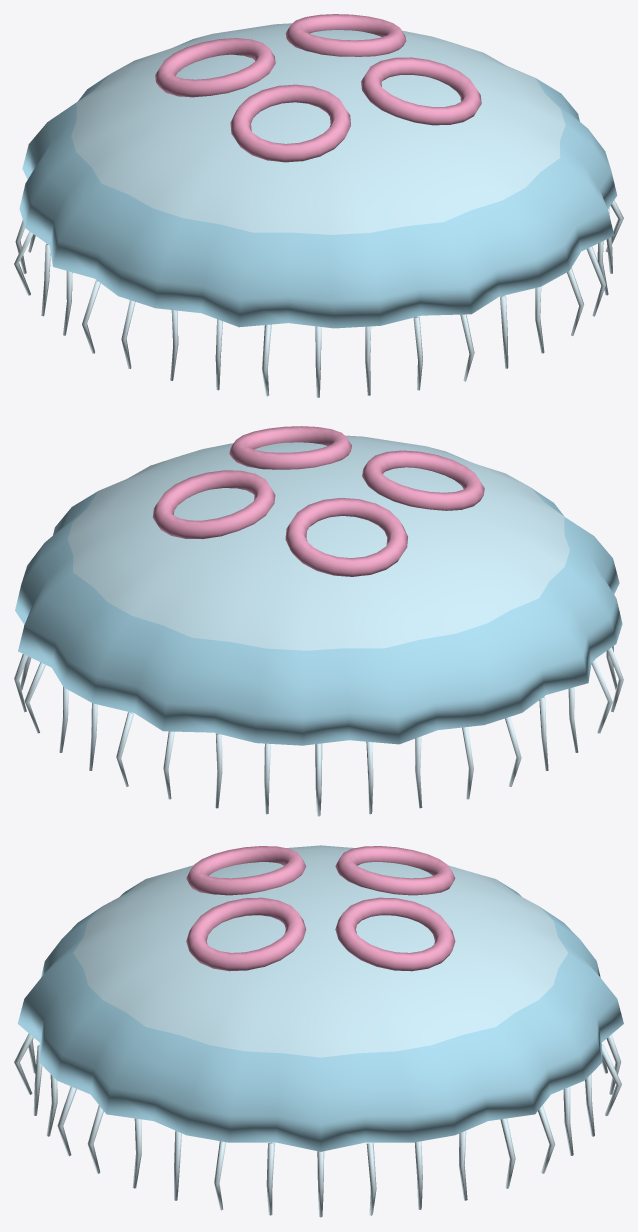
Rendered from sea-moon-jellyfish.glb.
The picture shows the model from 3 angles, top to bottom: view 1: azimuth 30°, elevation 25°; view 2: azimuth 150°, elevation 25°; view 3: azimuth 270°, elevation 25°; orthographic projection. The views are drawn at different scales.
Visible parts, largest first — view 1: jelly; view 2: jelly; view 3: jelly.
Boxes of the visible parts, <box> form: jelly: <box>14,14,623,397</box>; jelly: <box>14,426,623,816</box>; jelly: <box>14,845,623,1217</box>.
Bounding box in the file's own units: 0.2898 × 0.1264 × 0.2916.
